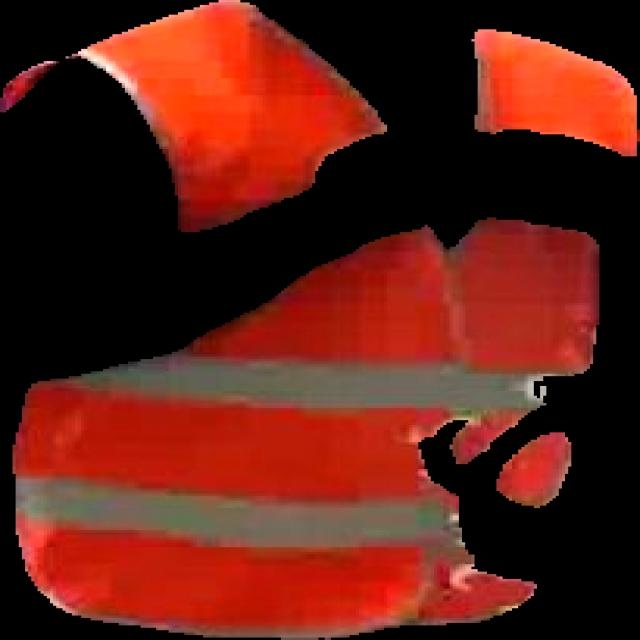Colete: (13, 218, 599, 639)
